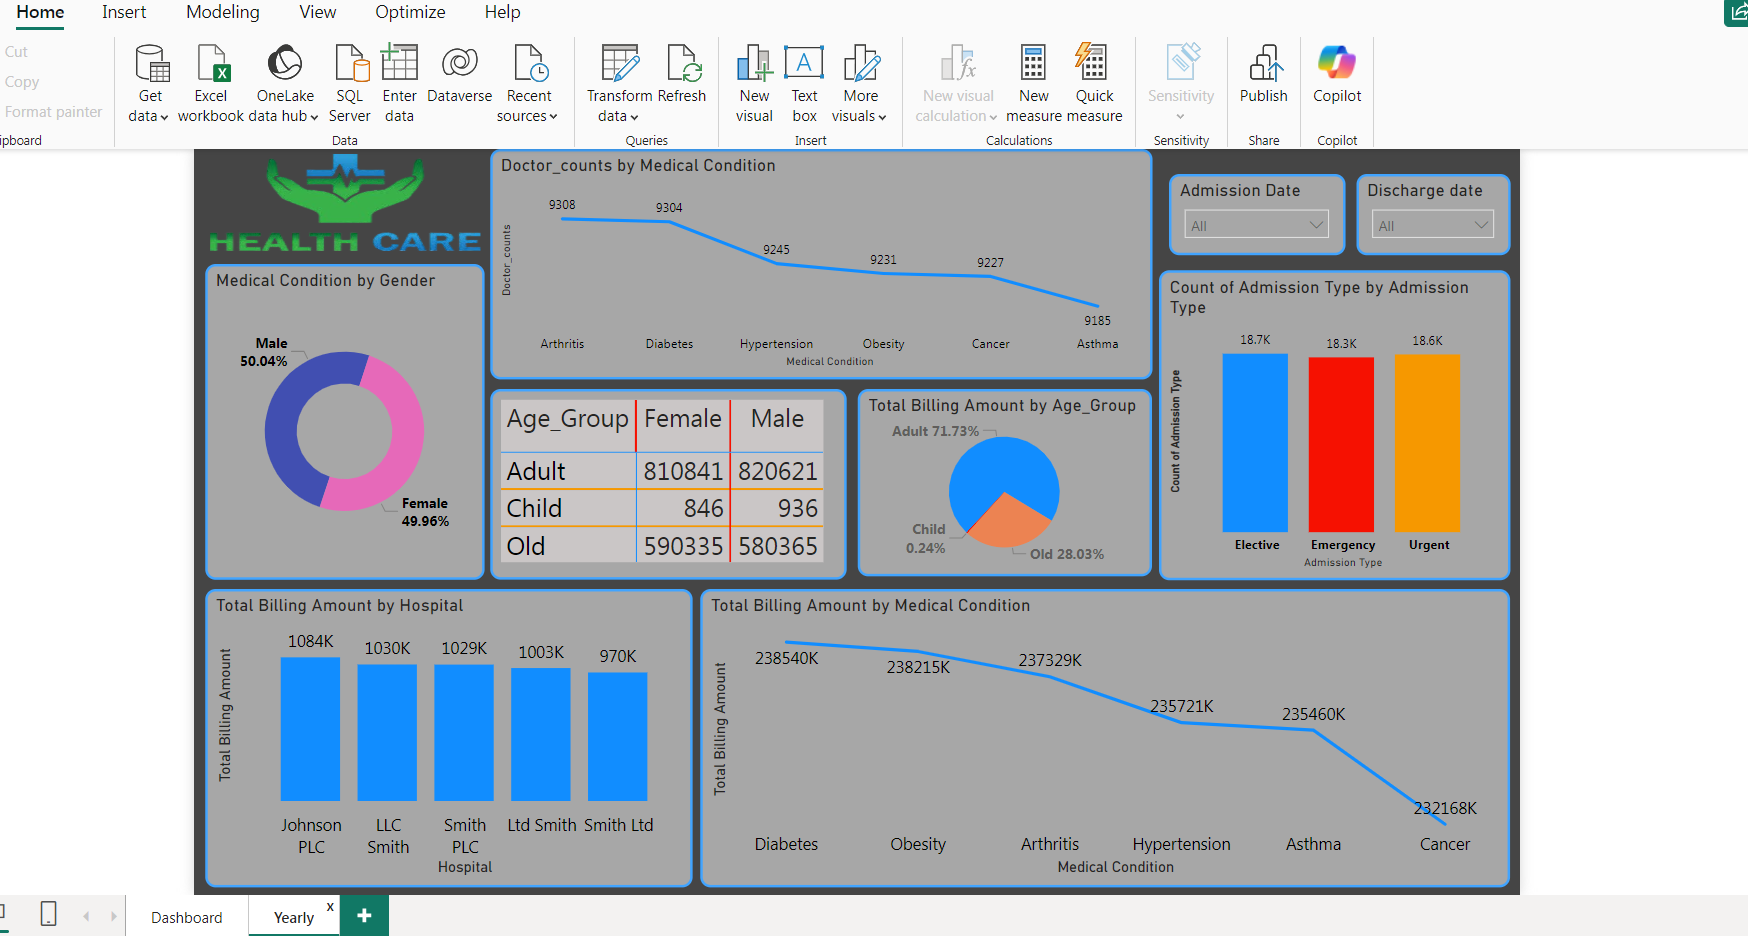

The page's visual inventory and layout, read from the dashboard file:
{"tool":"powerbi","page":{"name":"Yearly","canvas":[1280,720],"ordinal":1},"visuals":[{"type":"columnChart","fields":{"Category":["healthcare_dataset.Admission Type","healthcare_dataset.Date of Admission.Variation.Date Hierarchy.Year","healthcare_dataset.Date of Admission.Variation.Date Hierarchy.Month"],"Y":["healthcare_dataset.Admission Type"]},"box":[931.4,117,339,299.2],"z":0},{"type":"slicer","title":"Discharge date","fields":{"Values":["healthcare_dataset.Discharge Date.Variation.Date Hierarchy.Year","healthcare_dataset.Discharge Date.Variation.Date Hierarchy.Quarter","healthcare_dataset.Discharge Date.Variation.Date Hierarchy.Month"]},"box":[1122.4,24.5,148.5,78.8],"z":1000},{"type":"slicer","title":"Admission Date ","fields":{"Values":["healthcare_dataset.Date of Admission.Variation.Date Hierarchy.Year","healthcare_dataset.Date of Admission.Variation.Date Hierarchy.Quarter","healthcare_dataset.Date of Admission.Variation.Date Hierarchy.Month"]},"box":[941,24.1,170.1,78.4],"z":2000},{"type":"image","box":[10.9,0,270.2,103.8],"z":3000},{"type":"clusteredColumnChart","fields":{"Category":["healthcare_dataset.Hospital"],"Y":["healthcare_dataset.Total Billing Amount"]},"box":[10.3,424.9,470,288],"z":4000},{"type":"lineChart","fields":{"Category":["healthcare_dataset.Medical Condition"],"Y":["healthcare_dataset.Total Billing Amount"]},"box":[489.1,424.3,781.4,288],"z":5000},{"type":"pieChart","fields":{"Y":["healthcare_dataset.Total Billing Amount"],"Category":["healthcare_dataset.Age_Group"]},"box":[640.6,231.2,284.2,180.8],"z":6000},{"type":"pivotTable","fields":{"Rows":["healthcare_dataset.Age_Group"],"Values":["healthcare_dataset.Age"],"Columns":["healthcare_dataset.Gender"]},"box":[285.9,231.6,344,184],"z":7000},{"type":"donutChart","title":"Medical Condition by Gender","fields":{"Category":["healthcare_dataset.Gender"],"Y":["healthcare_dataset.Medical Condition"]},"box":[10.3,111.1,269.9,305],"z":8000},{"type":"lineChart","fields":{"Category":["healthcare_dataset.Medical Condition"],"Y":["healthcare_dataset.Doctor_counts"]},"box":[285.4,0,639.4,222.2],"z":9000}]}

Visuals, with their boxes on the page's 1280x720 design canvas (x1, y1, x2, y2). These are canvas units, not pixel positions in the 1748x936 screenshot, which may show the page scaled, cropped or inside an application window:
columnChart - healthcare_dataset.Admission Type x healthcare_dataset.Date of Admission.Variation.Date Hierarchy.Year: {"x1": 931, "y1": 117, "x2": 1270, "y2": 416}
"Discharge date" slicer: {"x1": 1122, "y1": 24, "x2": 1271, "y2": 103}
"Admission Date " slicer: {"x1": 941, "y1": 24, "x2": 1111, "y2": 102}
image: {"x1": 11, "y1": 0, "x2": 281, "y2": 104}
clusteredColumnChart - healthcare_dataset.Hospital x healthcare_dataset.Total Billing Amount: {"x1": 10, "y1": 425, "x2": 480, "y2": 713}
lineChart - healthcare_dataset.Medical Condition x healthcare_dataset.Total Billing Amount: {"x1": 489, "y1": 424, "x2": 1270, "y2": 712}
pieChart - healthcare_dataset.Total Billing Amount x healthcare_dataset.Age_Group: {"x1": 641, "y1": 231, "x2": 925, "y2": 412}
pivotTable - healthcare_dataset.Age_Group x healthcare_dataset.Age: {"x1": 286, "y1": 232, "x2": 630, "y2": 416}
"Medical Condition by Gender" donutChart: {"x1": 10, "y1": 111, "x2": 280, "y2": 416}
lineChart - healthcare_dataset.Medical Condition x healthcare_dataset.Doctor_counts: {"x1": 285, "y1": 0, "x2": 925, "y2": 222}
